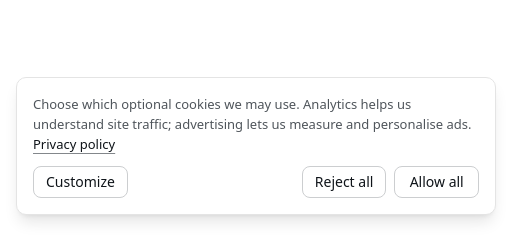
it: CookieBanner › keeps the category choices behind an expandable Customize button
Step 1. Click the button "Customize" → [80, 182], box [33,166,128,198]
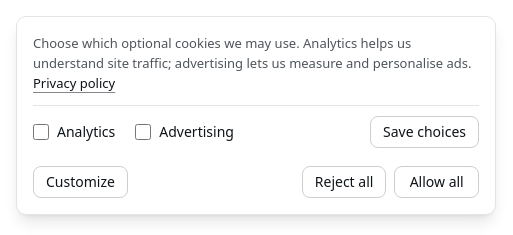
Expected: the number of checkboxes is 2, [33,124,49,140]; [135,124,151,140]
